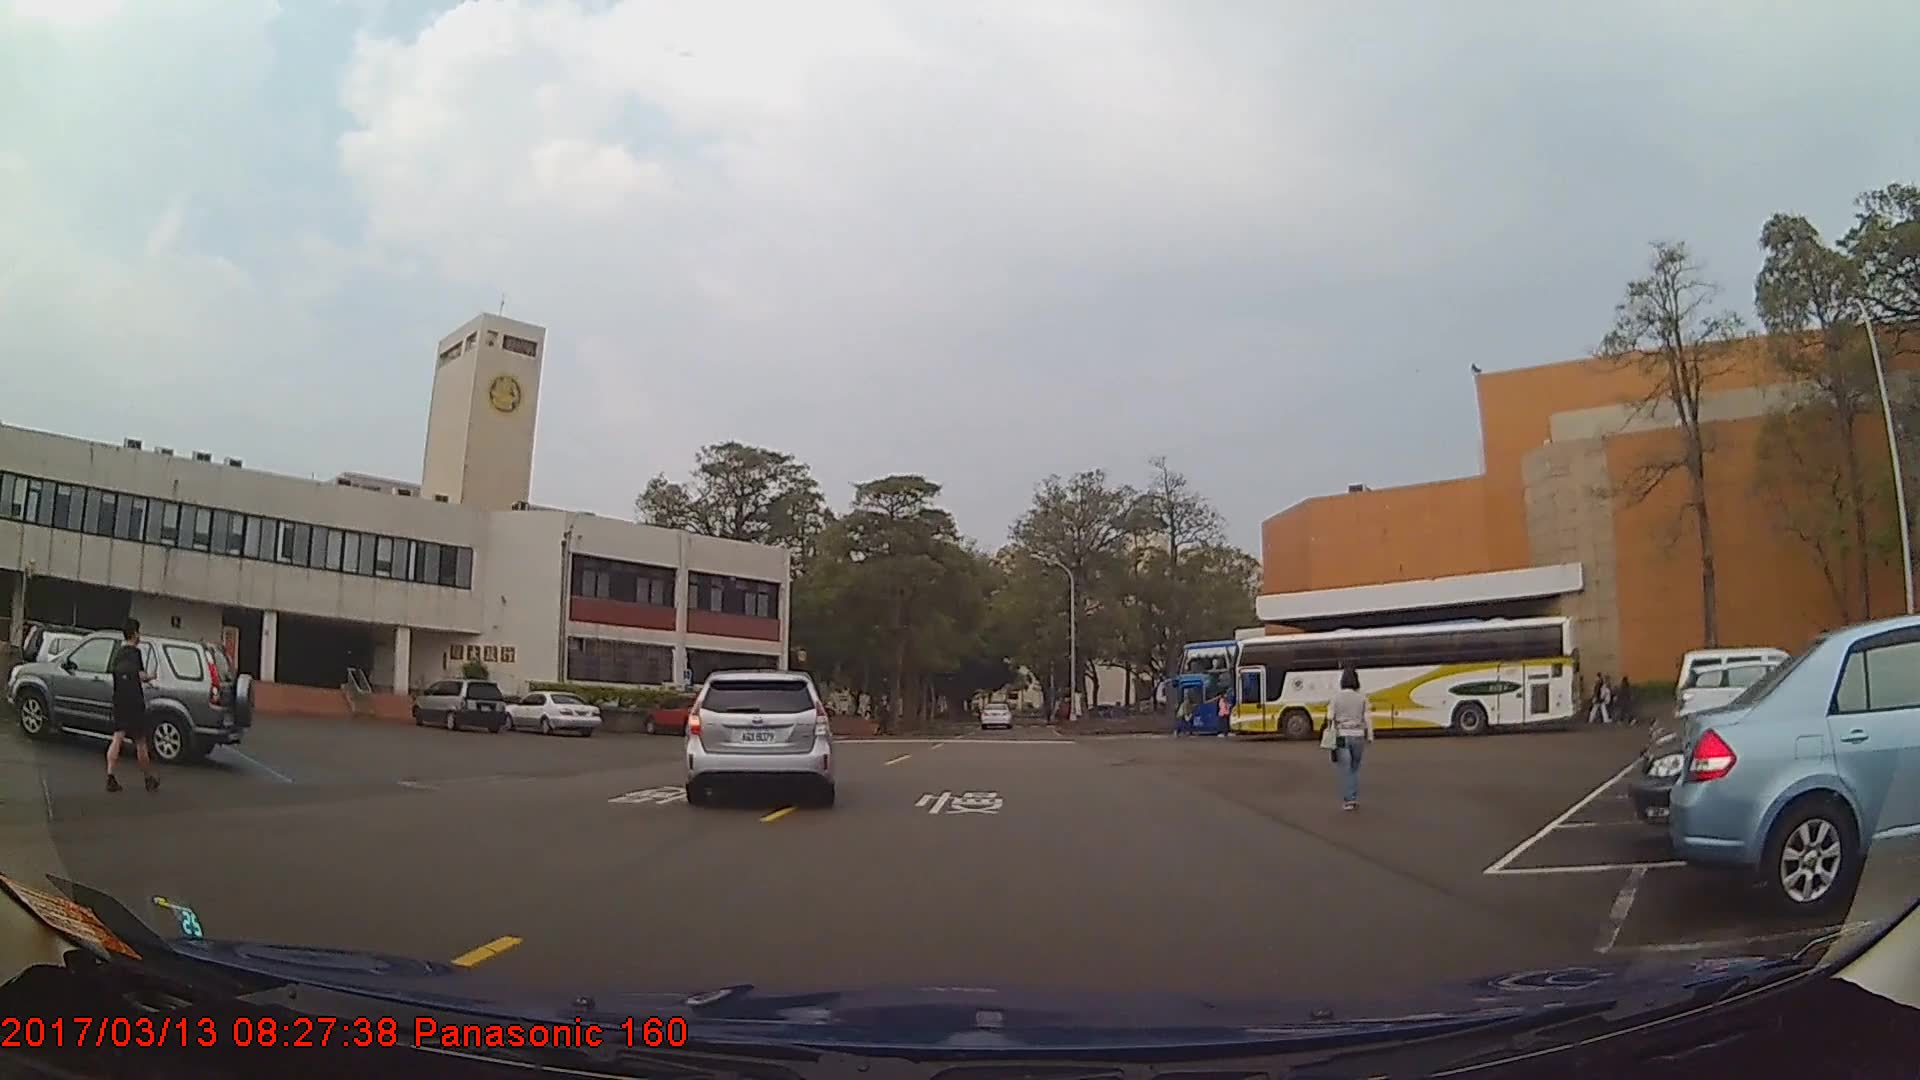pedestrian: (100, 613, 156, 791), (1321, 668, 1372, 811), (1613, 669, 1641, 730)
vehicle: (1671, 617, 1920, 917), (1226, 614, 1580, 742), (2, 631, 255, 762), (1170, 638, 1465, 735), (685, 667, 833, 805), (410, 676, 506, 731), (499, 689, 602, 735), (643, 692, 716, 736), (980, 703, 1012, 730)
